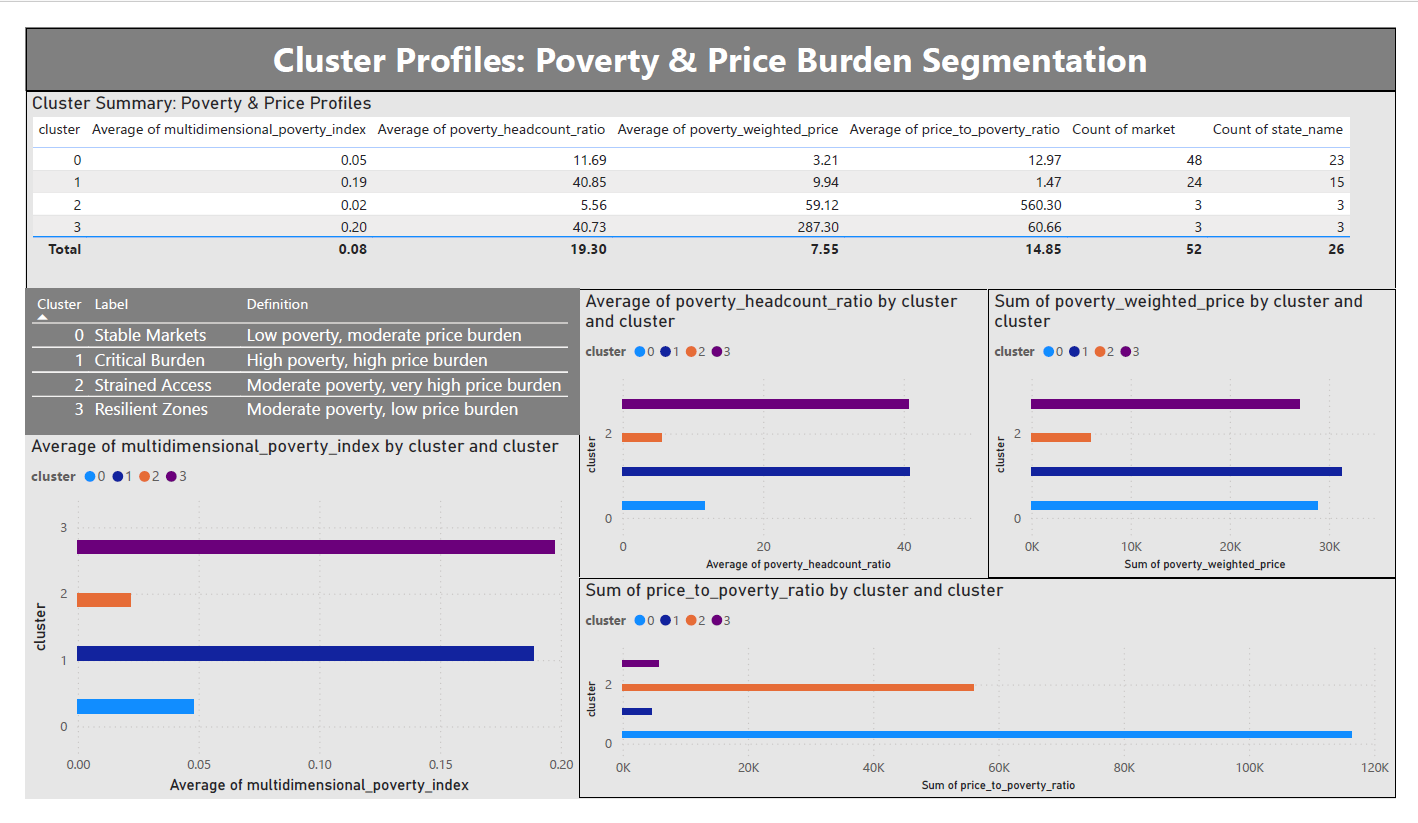

Layout of this report page (visuals, bound fields, positions):
{"tool":"powerbi","page":{"name":"Cluster Profiles","canvas":[1280,720],"ordinal":4},"visuals":[{"type":"tableEx","title":"Cluster Summary: Poverty & Price Profiles","fields":{"Values":["df_matched.cluster","Avg(df_matched.multidimensional_poverty_index)","Avg(df_matched.poverty_headcount_ratio)","Avg(df_matched.poverty_weighted_price)","Avg(df_matched.price_to_poverty_ratio)","df_matched.market","df_matched.state_name"]},"box":[0,58.6,1280,185.7],"z":0},{"type":"clusteredBarChart","fields":{"Category":["df_matched.cluster"],"Y":["Avg(df_matched.multidimensional_poverty_index)"],"Series":["df_matched.cluster"]},"box":[0,380,517.1,340],"z":1000},{"type":"clusteredBarChart","fields":{"Category":["df_matched.cluster"],"Y":["Avg(df_matched.poverty_headcount_ratio)"],"Series":["df_matched.cluster"]},"box":[517.1,244.3,381.4,270],"z":2000},{"type":"clusteredBarChart","fields":{"Category":["df_matched.cluster"],"Series":["df_matched.cluster"],"Y":["Sum(df_matched.price_to_poverty_ratio)"]},"box":[517.1,514.3,762.9,205.7],"z":3000},{"type":"clusteredBarChart","fields":{"Category":["df_matched.cluster"],"Series":["df_matched.cluster"],"Y":["Sum(df_matched.poverty_weighted_price)"]},"box":[898.6,244.3,381.4,270],"z":4000},{"type":"textbox","box":[0,0,1280,58.6],"z":4001},{"type":"tableEx","fields":{"Values":["Cluster Definition.Cluster","Cluster Definition.Column1","Cluster Definition.Column2"]},"box":[0,244.3,517.1,135.7],"z":4002}]}

Visuals, with their boxes on the page's 1280x720 design canvas (x1, y1, x2, y2). These are canvas units, not pixel positions in the 1418x823 screenshot, which may show the page scaled, cropped or inside an application window:
"Cluster Summary: Poverty & Price Profiles" tableEx: 0,59,1280,244
clusteredBarChart - df_matched.cluster x Avg(df_matched.multidimensional_poverty_index): 0,380,517,720
clusteredBarChart - df_matched.cluster x Avg(df_matched.poverty_headcount_ratio): 517,244,898,514
clusteredBarChart - df_matched.cluster x df_matched.cluster: 517,514,1280,720
clusteredBarChart - df_matched.cluster x df_matched.cluster: 899,244,1280,514
textbox: 0,0,1280,59
tableEx - Cluster Definition.Cluster x Cluster Definition.Column1: 0,244,517,380
